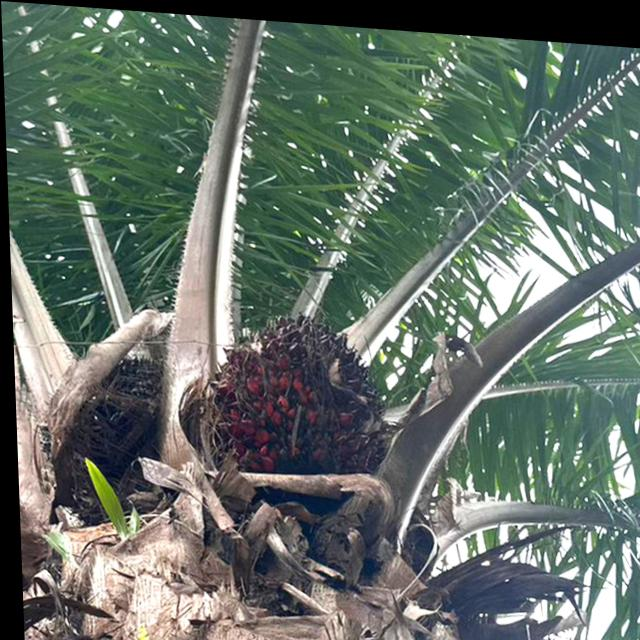ripe: (202, 299, 392, 492)
